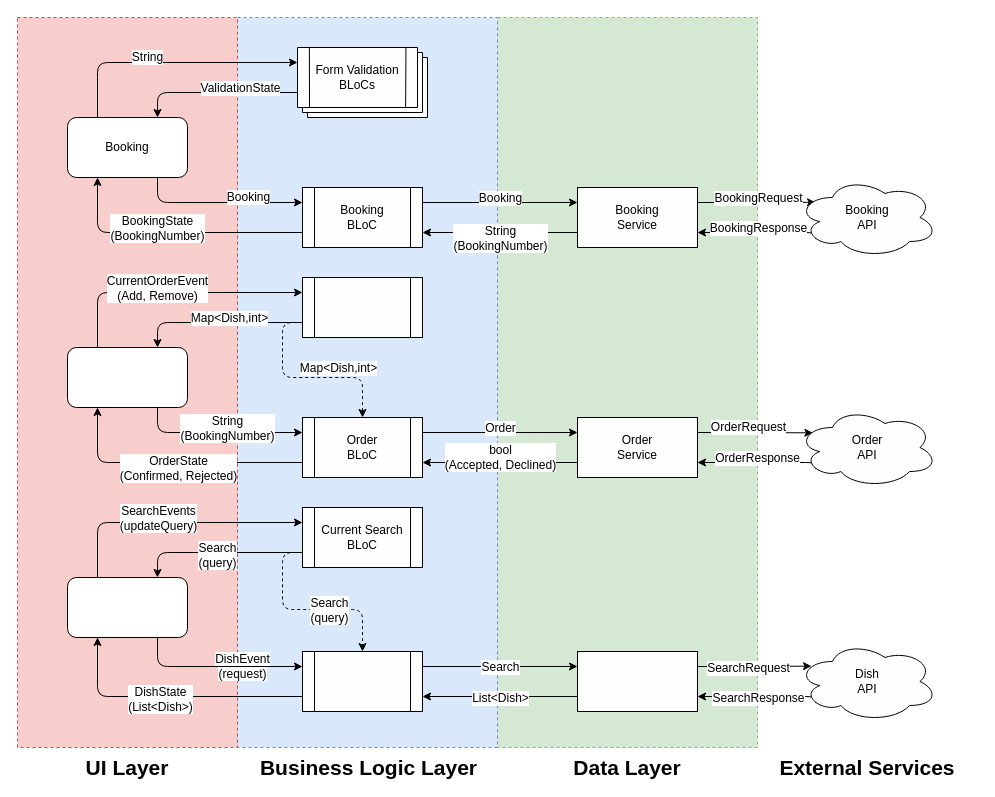
This 995x797 diagram has some shape labels left out. The shapes that lost their labels are listed below. From the top down, each one's centre as x and y in pixels, then its label:
At (x=362, y=307): "Current Order BLoC".
At (x=127, y=377): "Current Order".
At (x=127, y=607): "Menu".
At (x=362, y=681): "Dish BLoC".
At (x=637, y=681): "Dish Service".
